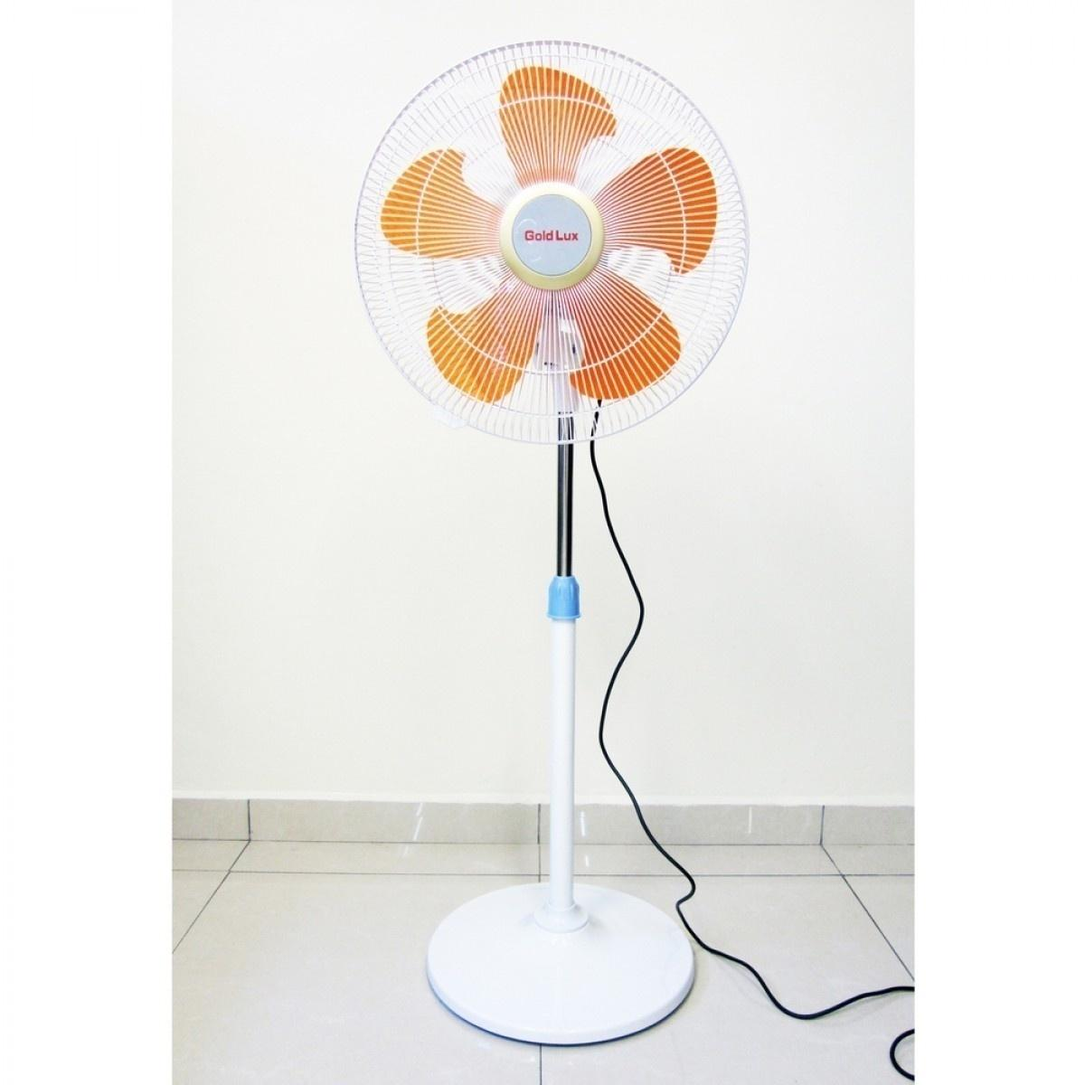fan: (347, 25, 778, 1085)
